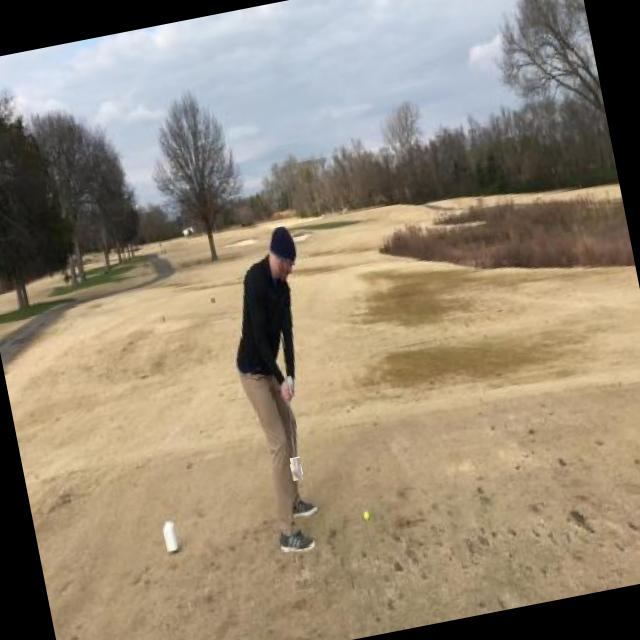club head: (290, 456, 304, 481)
